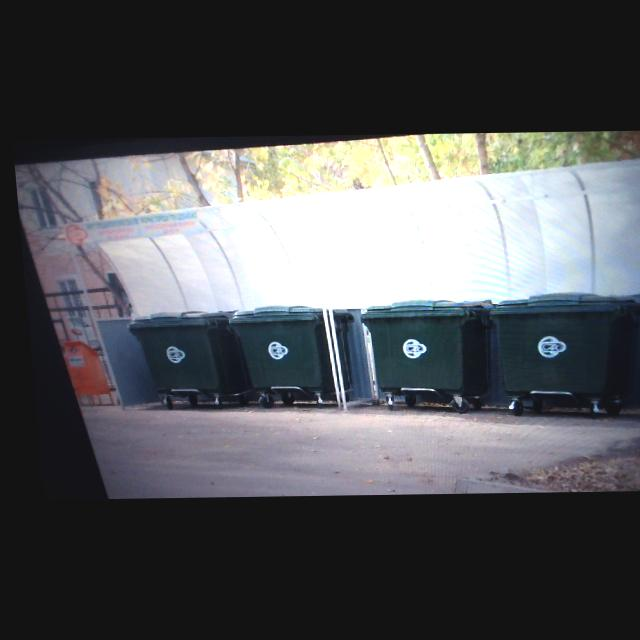Trash_Can_Closed: (482, 294, 640, 399), (354, 298, 493, 398), (222, 304, 352, 393), (121, 311, 240, 396)
